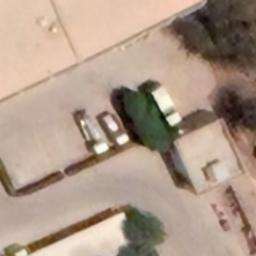SUV: (95, 111, 133, 147)
unknown: (70, 106, 112, 158)
